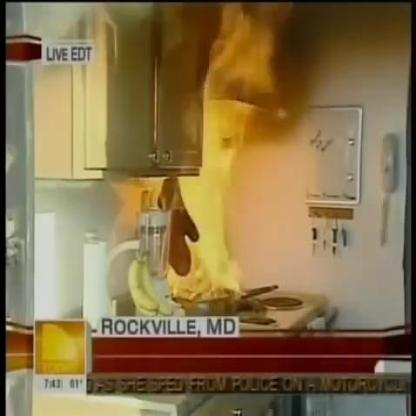fire: (163, 2, 288, 300)
